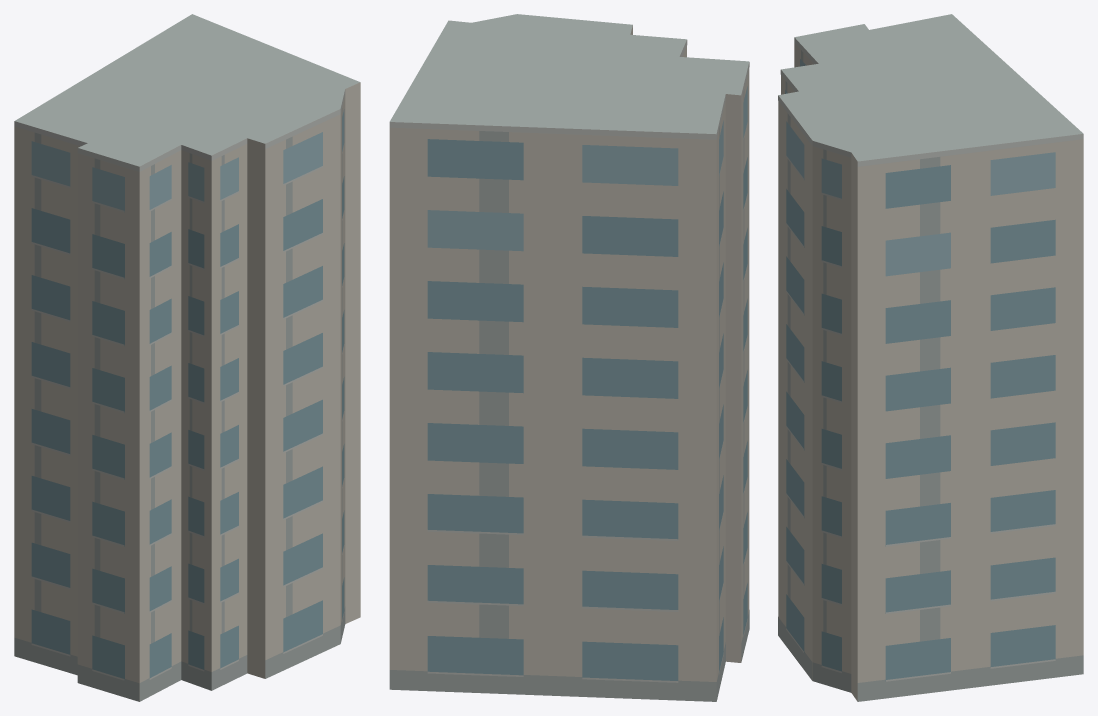
File: survey-upis-32810588.glb
3 views of the same model, side by side, from view 1: azimuth 30°, elevation 25°; view 2: azimuth 150°, elevation 25°; view 3: azimuth 270°, elevation 25° (orthographic). The views are drawn at different scales.
Visible parts, largest first — view 1: survey-upis-32810588.tmp; view 2: survey-upis-32810588.tmp; view 3: survey-upis-32810588.tmp.
Part boxes in pixels (x1,y1,x2,y2): survey-upis-32810588.tmp: [14, 14, 360, 701]; survey-upis-32810588.tmp: [389, 14, 749, 701]; survey-upis-32810588.tmp: [778, 14, 1083, 701].
Size of the model in its own units: 14.35 by 24.5 by 12.56.
